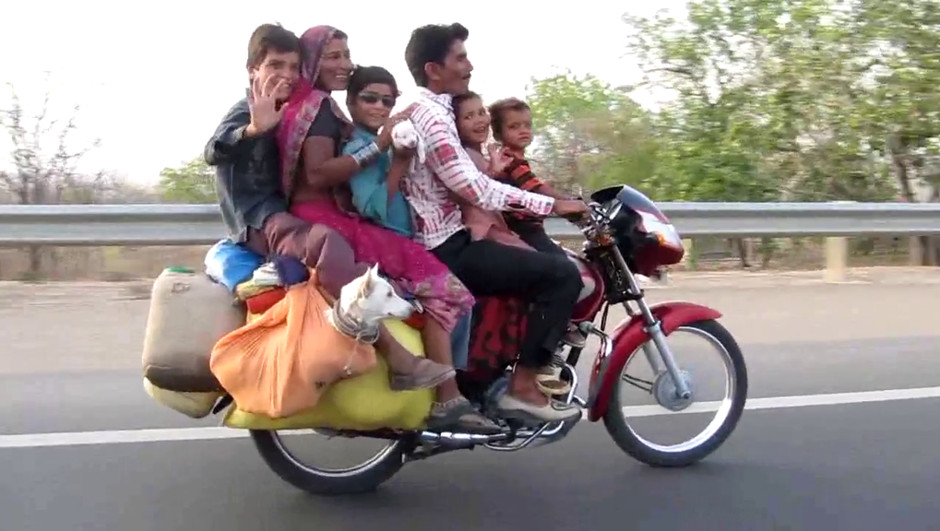without_mask: (264, 53, 301, 101), (323, 45, 356, 90), (360, 83, 391, 126), (449, 47, 474, 92), (461, 103, 488, 141), (508, 114, 535, 143)
